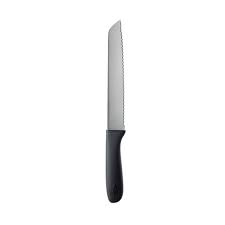knife: (106, 17, 126, 204)
